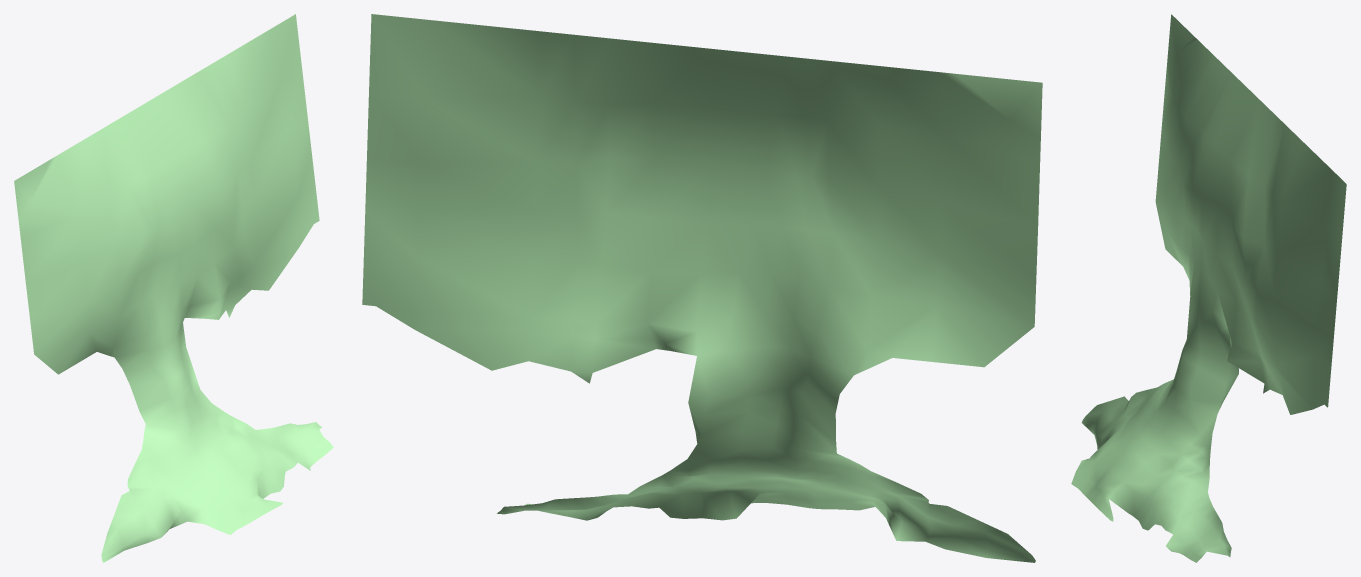
The model's file is sm_tree_01.gltf.
3 views of the same model, side by side, from view 1: azimuth 30°, elevation 25°; view 2: azimuth 150°, elevation 25°; view 3: azimuth 270°, elevation 25° (orthographic). The views are drawn at different scales.
Parts seen in each view (by area): view 1: sm_tree_01; view 2: sm_tree_01; view 3: sm_tree_01.
Part boxes in pixels (x1,y1,x2,y2): sm_tree_01: [14, 14, 333, 562]; sm_tree_01: [362, 14, 1042, 562]; sm_tree_01: [1071, 14, 1346, 562].
Size of the model in its own units: 4.86 by 4.65 by 2.88.
